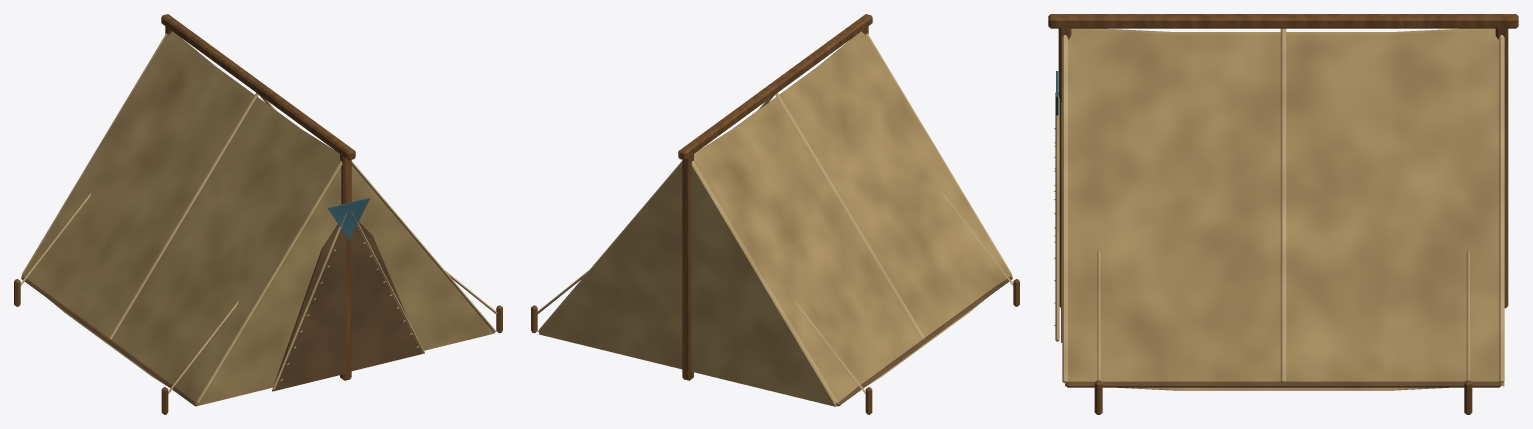
File: tent.glb
The picture shows the model from 3 angles, left to right: view 1: azimuth 30°, elevation 25°; view 2: azimuth 150°, elevation 25°; view 3: azimuth 270°, elevation 25°; orthographic projection. The views are drawn at different scales.
Parts seen in each view (by area): view 1: Tent_Mesh; view 2: Tent_Mesh; view 3: Tent_Mesh.
Boxes of the visible parts, x1,y1,x2,y2 form: Tent_Mesh: (14,14,502,414); Tent_Mesh: (531,14,1019,414); Tent_Mesh: (1048,14,1518,414).
Bounding box in the file's own units: 2.93 × 1.95 × 2.8.
1 material, 1 textured.
